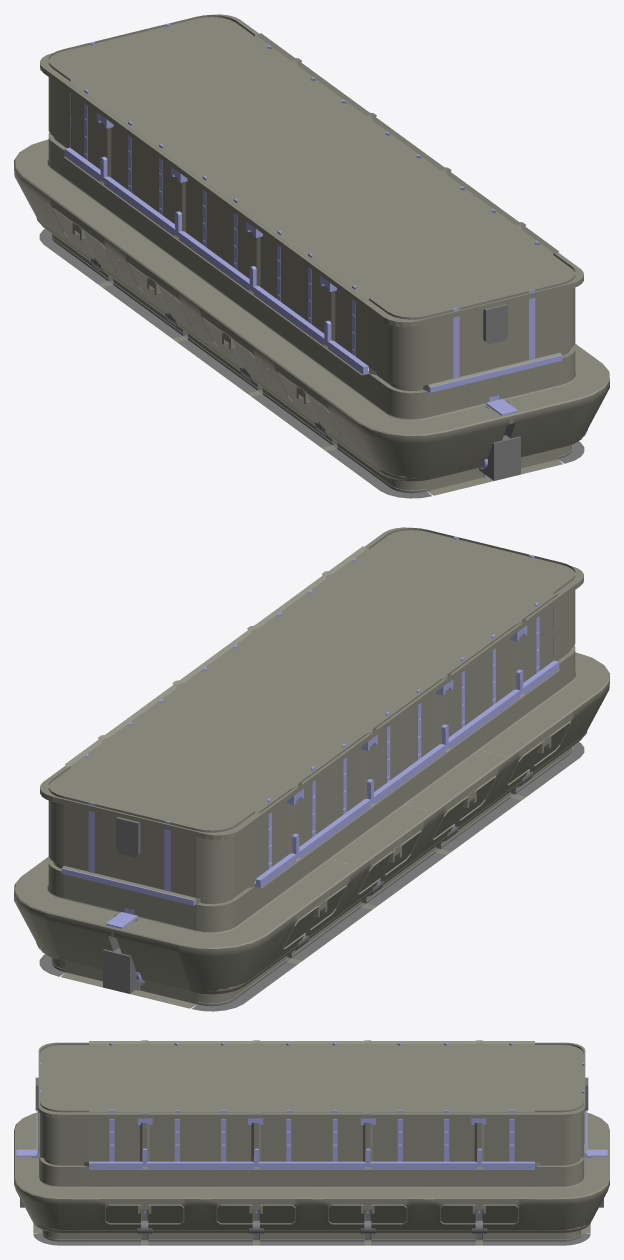
File: modular_v2.glb
3 views of the same model, one above another, from view 1: azimuth 30°, elevation 25°; view 2: azimuth 150°, elevation 25°; view 3: azimuth 270°, elevation 25° (orthographic). The views are drawn at different scales.
Parts seen in each view (by area): view 1: Plane, Cube.001, Cube.004, Cube.002; view 2: Plane, Cube.001, Cube.004, Cube.002; view 3: Cube.001, Plane, Cube.002, Cube.004.
Boxes of the visible parts, box(x1,y1,x2,y2) form: Plane: box(40, 14, 583, 327); Cube.001: box(40, 33, 582, 476); Cube.004: box(47, 17, 577, 495); Cube.002: box(14, 15, 609, 498); Plane: box(40, 527, 583, 840); Cube.001: box(41, 546, 583, 989); Cube.004: box(46, 530, 576, 1008); Cube.002: box(14, 528, 609, 1011); Cube.001: box(89, 1040, 534, 1245); Plane: box(38, 1042, 585, 1124); Cube.002: box(14, 1043, 609, 1245); Cube.004: box(14, 1062, 609, 1233).
Bounding box in the file's own units: 30.9 × 21.24 × 86.67.
